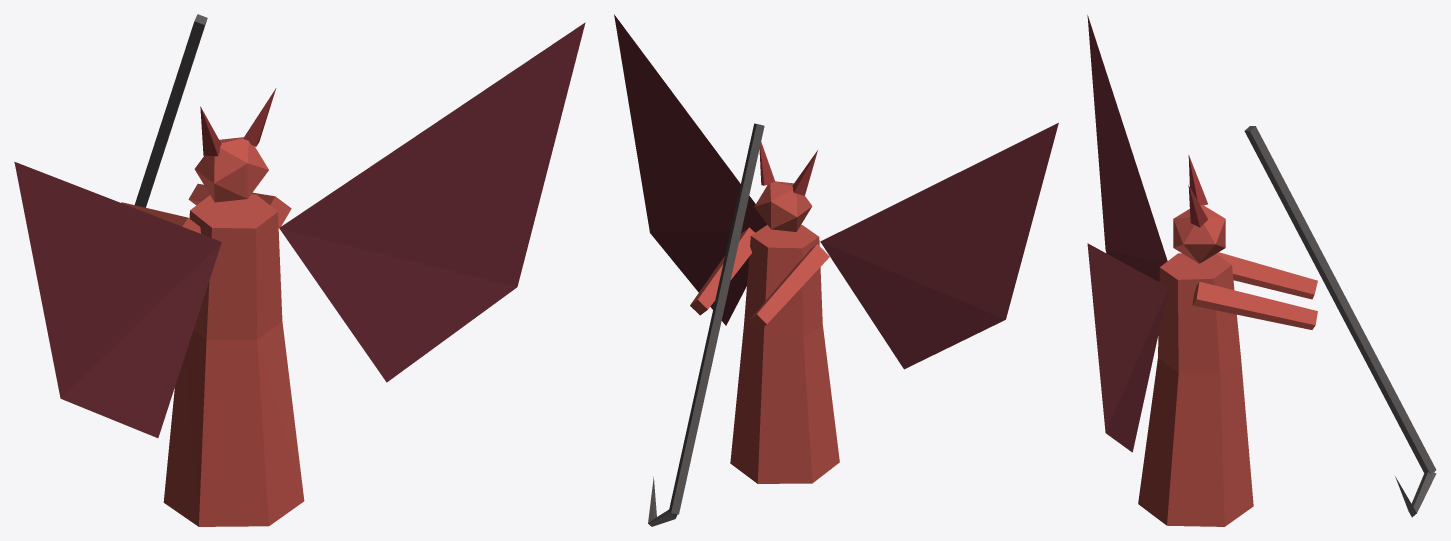
Rendered from Circle8Piece_D5Malebranche.obj.
The picture shows the model from 3 angles, left to right: view 1: azimuth 30°, elevation 25°; view 2: azimuth 150°, elevation 25°; view 3: azimuth 270°, elevation 25°; orthographic projection. The views are drawn at different scales.
Visible parts, largest first — view 1: Circle8Piece_D5Malebranche; view 2: Circle8Piece_D5Malebranche; view 3: Circle8Piece_D5Malebranche.
Part boxes in pixels (<box>): Circle8Piece_D5Malebranche: <box>14,14,585,526</box>; Circle8Piece_D5Malebranche: <box>614,14,1058,526</box>; Circle8Piece_D5Malebranche: <box>1087,15,1436,526</box>.
Size of the model in its own units: 3 by 2.32 by 1.93.
1 material, 1 textured.
